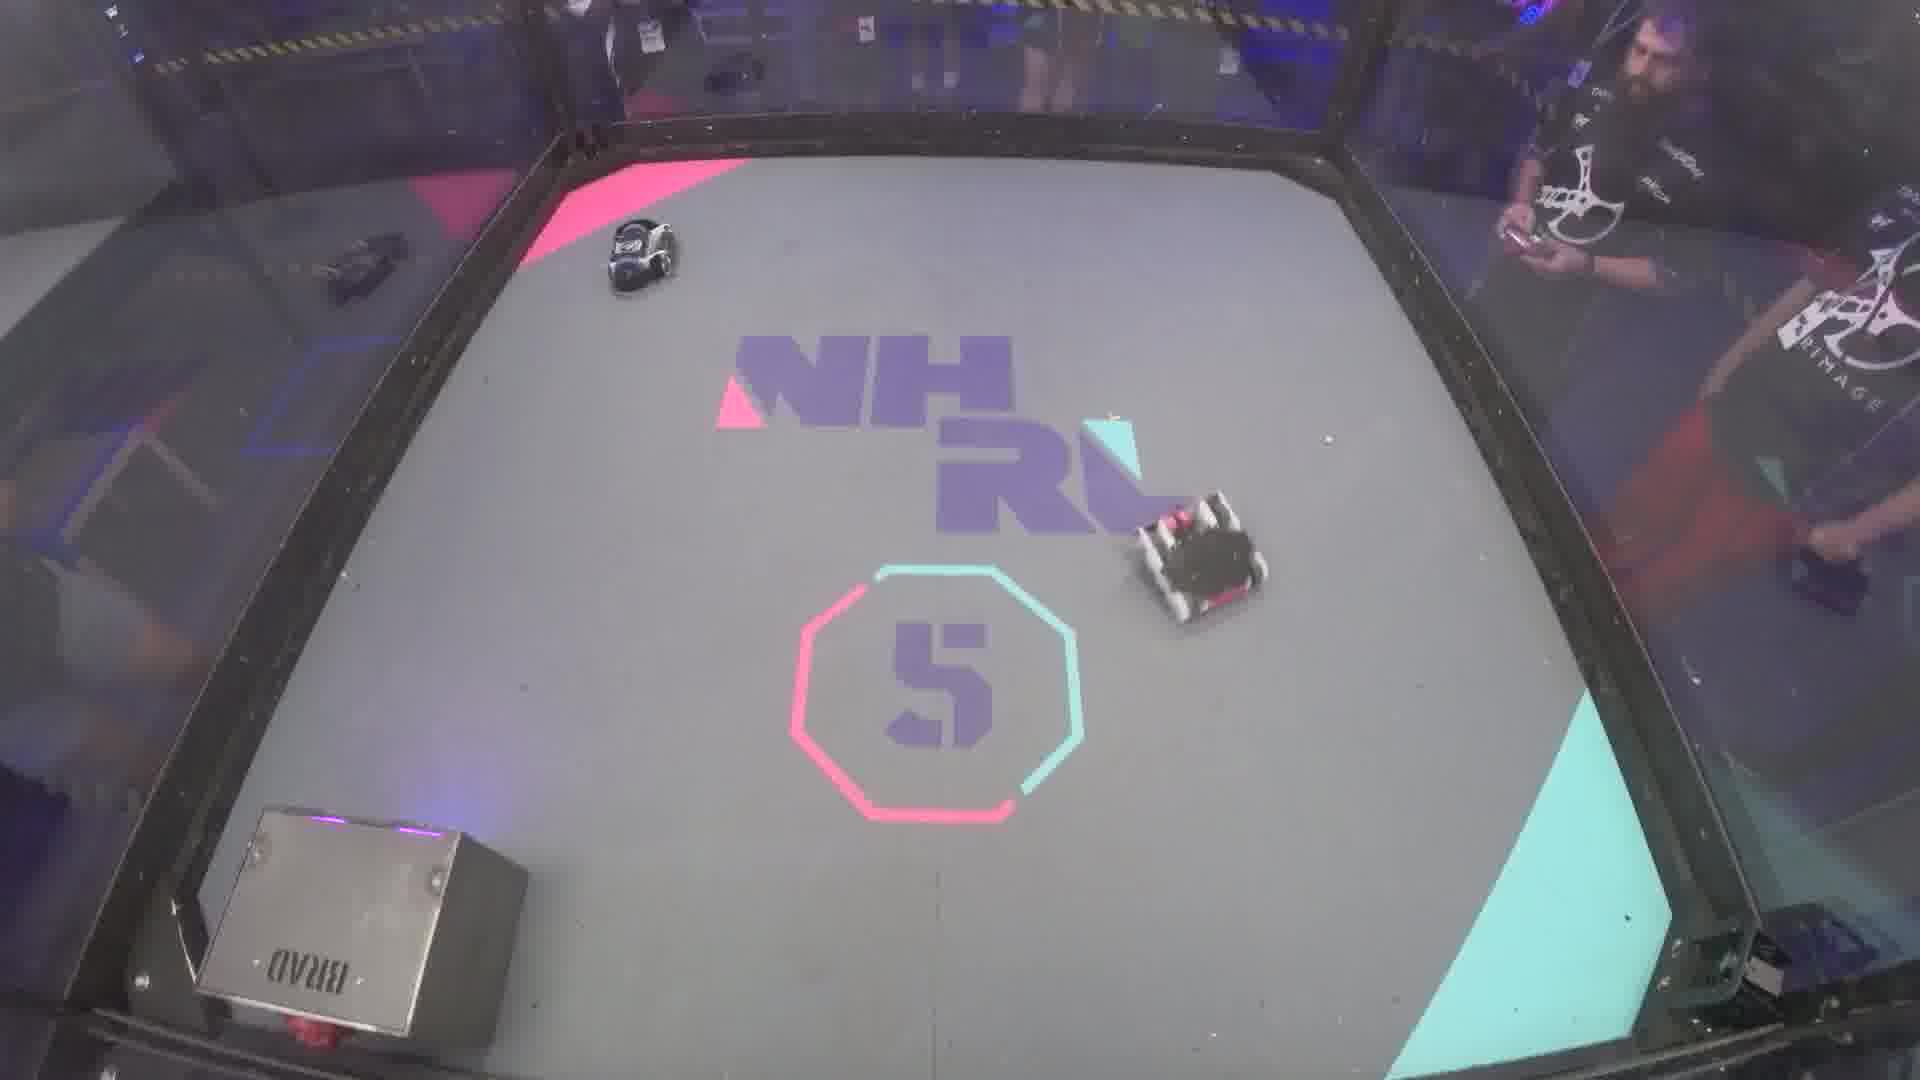combatbot: (1133, 497, 1269, 621), (603, 219, 679, 295)
housebot: (193, 804, 530, 1072)
